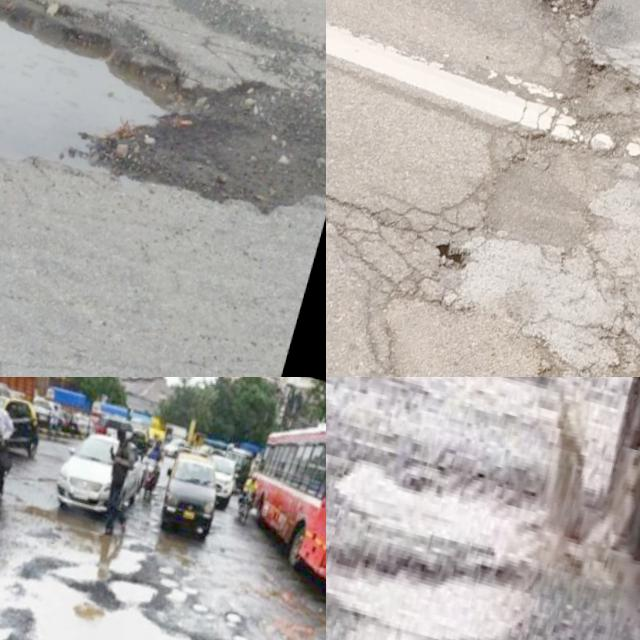Potholes: (0, 0, 283, 337), (326, 425, 558, 625), (0, 466, 241, 640), (326, 516, 566, 640), (420, 188, 569, 333), (356, 377, 599, 455), (431, 301, 640, 377), (363, 332, 553, 377), (502, 0, 640, 58), (196, 582, 326, 640)
